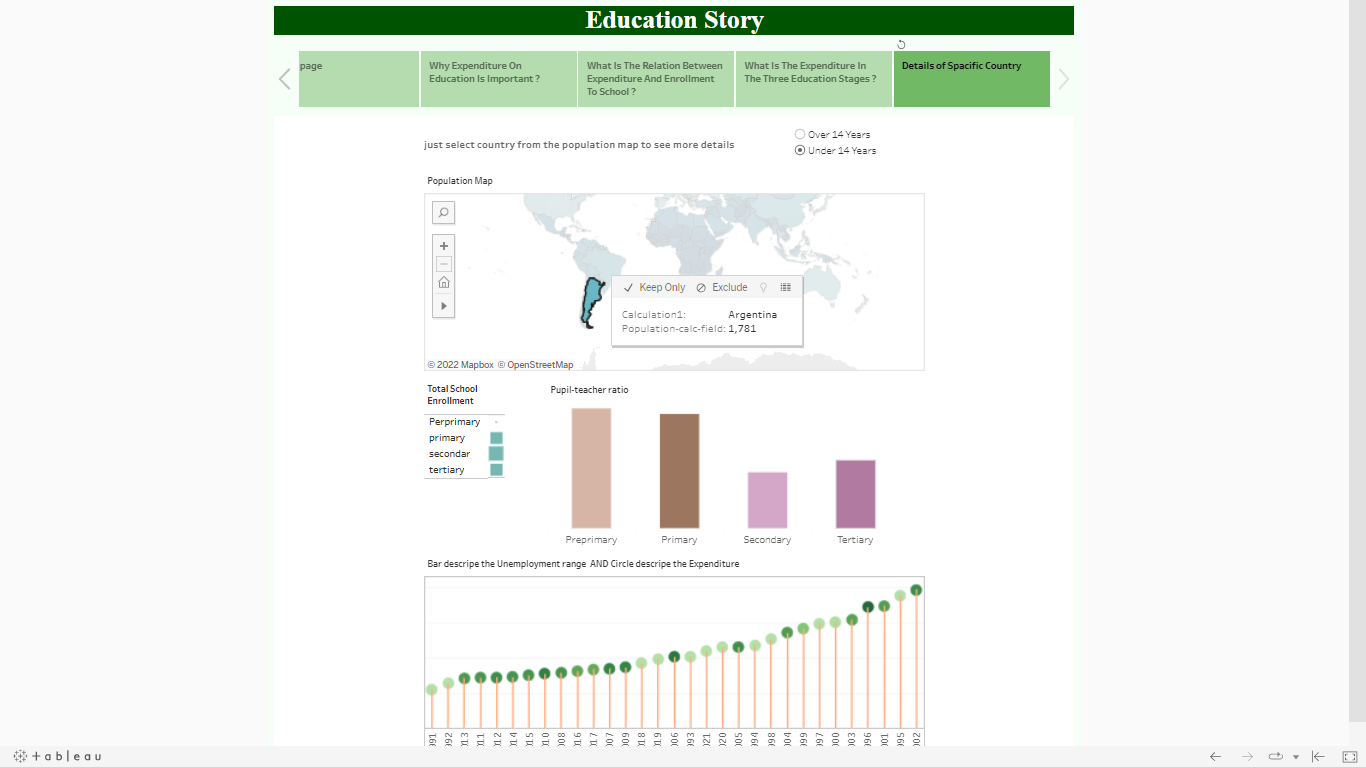

The page's visual inventory and layout, read from the dashboard file:
{"tool":"tableau","page":{"name":"4","canvas":[650,860],"ordinal":3},"visuals":[{"type":"text","box":[8,9.3,459,60.6]},{"type":"parameter","param":"[Parameters].[Parameter 2]","box":[467,9.3,175,60.6]},{"type":"worksheet","title":"Population Map","mark":"Multipolygon","box":[8,69.9,634,273.3]},{"type":"worksheet","title":"Sheet 13","mark":"Automatic","box":[8,343.2,154,230.3]},{"type":"worksheet","title":"Pupil-teacher ratio","mark":"Automatic","cols":["Country Name"],"box":[162,343.2,448,230.3]},{"type":"worksheet","title":"Unemploy-Expen-ratio","mark":"Bar","rows":["Unemployment, total (% of total labor force) (modeled ILO es","Unemployment, total (% of total labor force) (modeled ILO es"],"cols":["Country Name","Year"],"box":[8,573.5,634,277.2]}]}

Visuals, with their boxes on the page's 650x860 design canvas (x1, y1, x2, y2). These are canvas units, not pixel positions in the 1366x768 screenshot, which may show the page scaled, cropped or inside an application window:
text: (8, 9, 467, 70)
parameter: (467, 9, 642, 70)
"Population Map" worksheet (Multipolygon marks): (8, 70, 642, 343)
"Sheet 13" worksheet: (8, 343, 162, 574)
"Pupil-teacher ratio" worksheet: (162, 343, 610, 574)
"Unemploy-Expen-ratio" worksheet (Bar marks): (8, 574, 642, 851)
